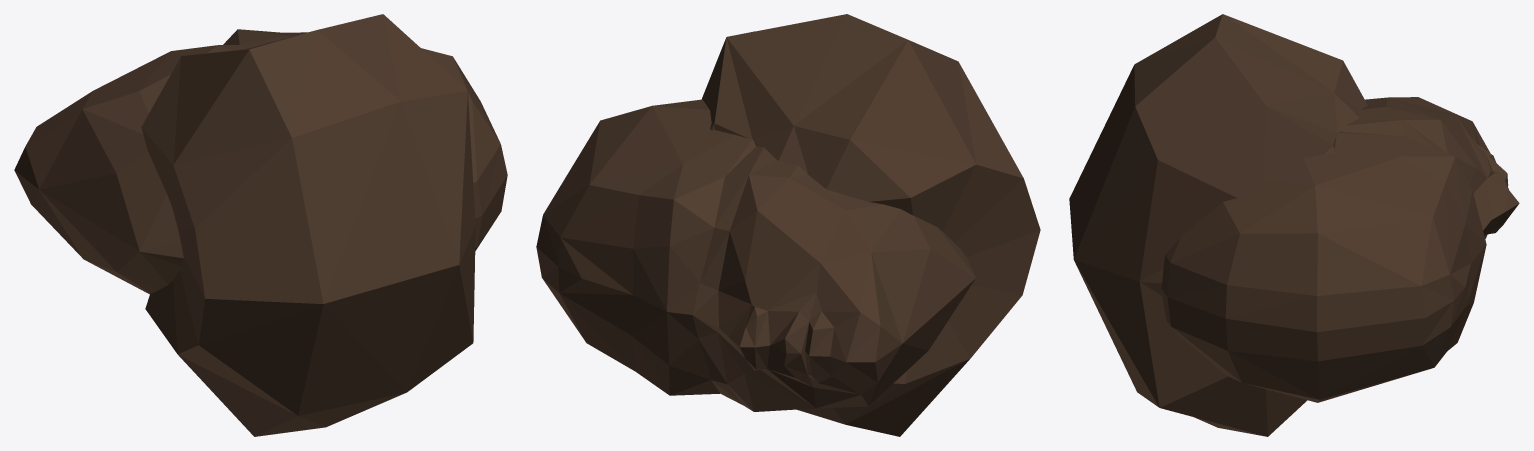
The model's file is HUM_HEAD_BABE7.OBJ.
The picture shows the model from 3 angles, left to right: view 1: azimuth 30°, elevation 25°; view 2: azimuth 150°, elevation 25°; view 3: azimuth 270°, elevation 25°; orthographic projection. The views are drawn at different scales.
Visible parts, largest first — view 1: HUM_HEAD_BABE7; view 2: HUM_HEAD_BABE7; view 3: HUM_HEAD_BABE7.
Boxes of the visible parts, x1,y1,x2,y2 form: HUM_HEAD_BABE7: (14, 14, 507, 436); HUM_HEAD_BABE7: (536, 14, 1040, 436); HUM_HEAD_BABE7: (1069, 14, 1519, 436).
Bounding box in the file's own units: 0.2561 × 0.2523 × 0.267.
